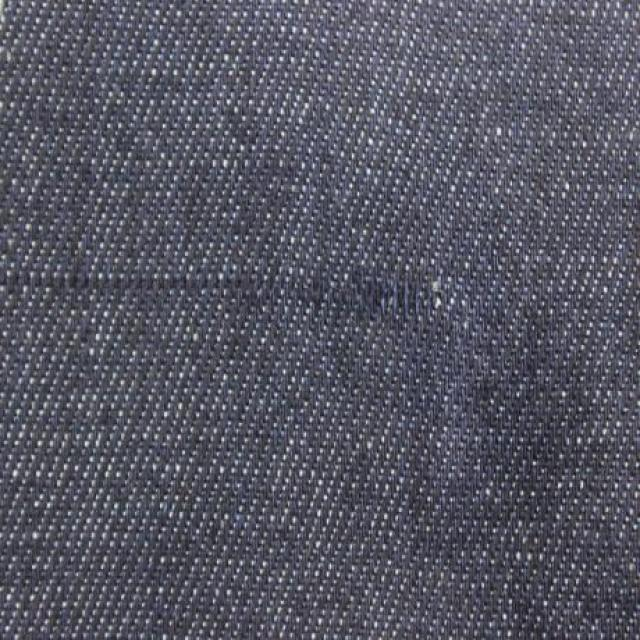Thread_other: (0, 203, 484, 372)
